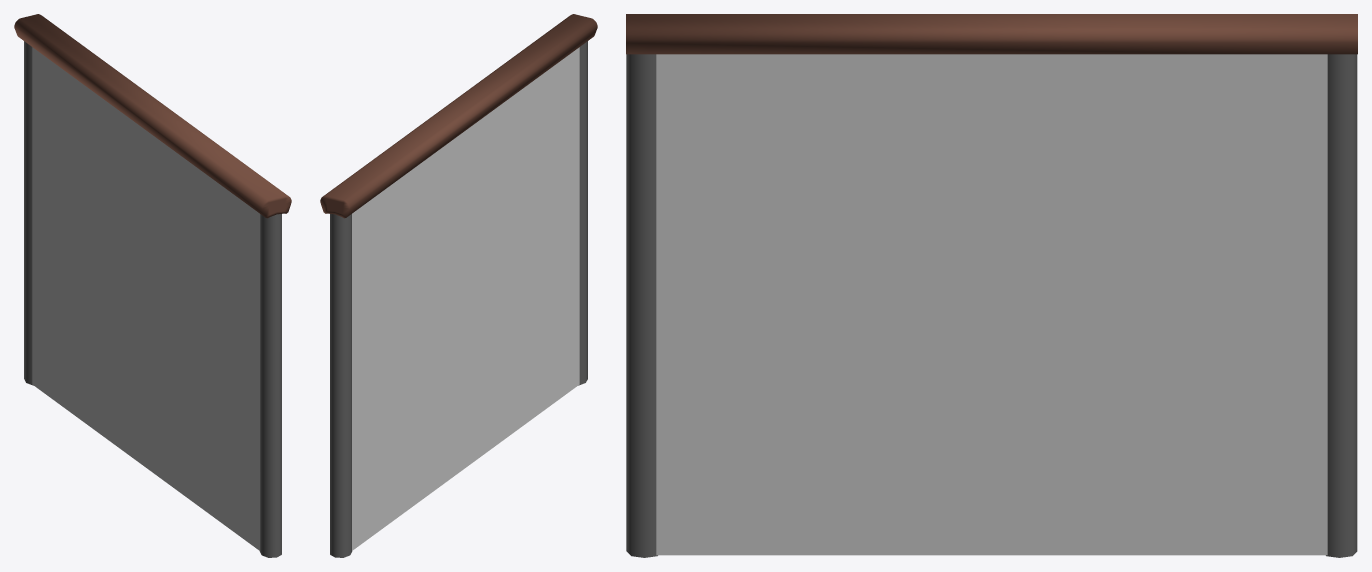
The model's file is Edge.fbx.
The picture shows the model from 3 angles, left to right: view 1: azimuth 30°, elevation 25°; view 2: azimuth 150°, elevation 25°; view 3: azimuth 270°, elevation 25°; orthographic projection. The views are drawn at different scales.
Visible parts, largest first — view 1: Cube.002; view 2: Cube.002; view 3: Cube.002.
Boxes of the visible parts, box(x1,y1,x2,y2) form: Cube.002: box(14, 14, 291, 557); Cube.002: box(320, 14, 597, 557); Cube.002: box(626, 14, 1357, 557).
Bounding box in the file's own units: 13.65 × 160 × 200.
